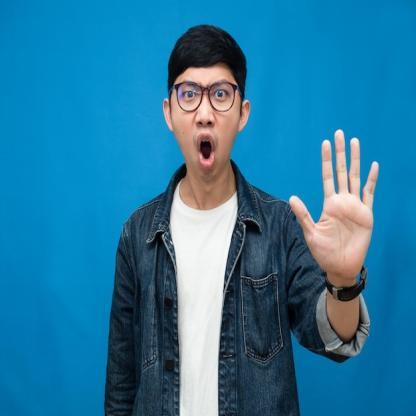stop: (286, 124, 381, 282)
